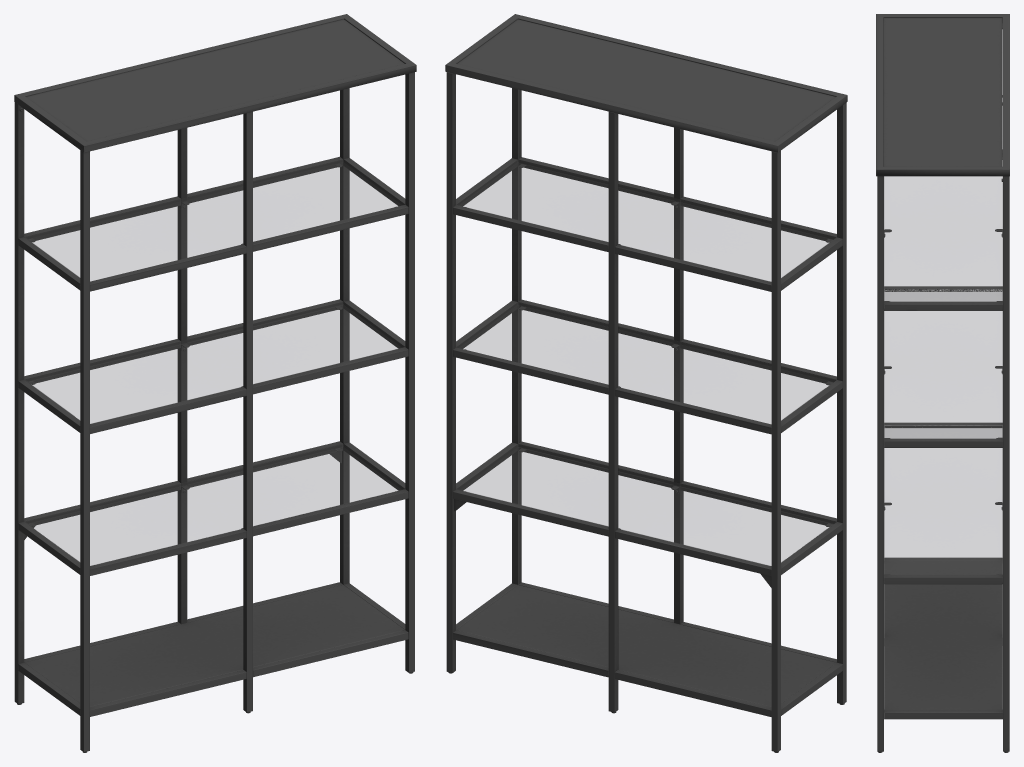
The model's file is Shelve_003.gltf.
The picture shows the model from 3 angles, left to right: view 1: azimuth 30°, elevation 25°; view 2: azimuth 150°, elevation 25°; view 3: azimuth 270°, elevation 25°; orthographic projection. The views are drawn at different scales.
Parts seen in each view (by area): view 1: Shelve_003; view 2: Shelve_003; view 3: Shelve_003.
Part boxes in pixels (<box>): Shelve_003: <box>14,14,416,752</box>; Shelve_003: <box>445,14,847,752</box>; Shelve_003: <box>876,14,1009,752</box>.
Bounding box in the file's own units: 1 × 1.75 × 0.3635.
1 material, 1 textured.
